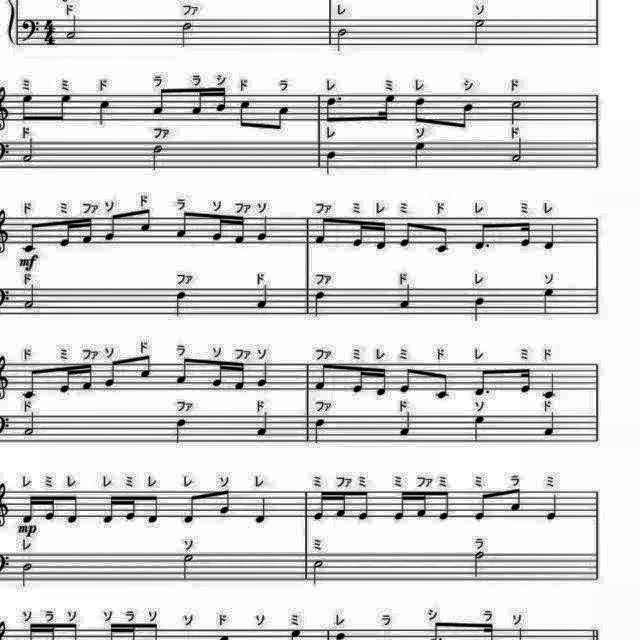Bass-clef: (20, 16, 40, 44)
Eighth-note: (20, 363, 42, 401), (454, 99, 478, 133), (20, 218, 42, 254), (53, 92, 75, 125), (183, 490, 203, 526), (271, 102, 293, 134), (149, 88, 171, 119), (471, 489, 491, 523), (474, 218, 494, 252), (322, 93, 343, 125), (435, 488, 453, 524), (432, 370, 452, 402), (410, 92, 430, 124), (432, 222, 452, 254), (474, 364, 494, 396), (234, 95, 252, 129), (57, 218, 75, 252), (19, 90, 37, 124), (315, 358, 333, 392), (397, 364, 415, 396), (103, 211, 121, 243), (103, 357, 121, 389), (397, 219, 415, 251), (65, 492, 83, 524), (315, 214, 333, 246), (177, 355, 196, 385), (177, 210, 196, 240), (356, 489, 372, 523), (505, 485, 523, 515), (146, 492, 162, 524), (137, 206, 155, 234), (216, 487, 232, 517), (138, 352, 154, 380)
Half-note: (470, 548, 490, 580), (148, 142, 168, 174), (180, 17, 200, 47), (469, 16, 487, 48), (20, 410, 38, 440), (182, 552, 200, 582), (309, 556, 327, 586), (19, 136, 37, 164), (509, 98, 527, 126), (509, 136, 527, 164), (64, 13, 80, 42), (23, 284, 39, 312), (336, 26, 352, 54), (18, 562, 34, 590)
Quarter-note: (538, 368, 558, 399), (95, 96, 114, 128), (545, 492, 563, 524), (252, 494, 270, 526), (255, 409, 273, 439), (469, 414, 487, 444), (173, 416, 191, 446), (172, 288, 190, 318), (411, 139, 429, 169), (311, 288, 329, 318), (396, 409, 414, 438), (311, 418, 329, 447), (542, 222, 558, 254), (469, 293, 486, 323), (255, 215, 272, 245), (256, 362, 274, 390), (255, 282, 273, 310), (540, 410, 558, 438), (396, 282, 414, 310), (540, 285, 556, 315), (322, 148, 338, 176)
Sixteenth-note: (372, 90, 396, 122), (188, 88, 208, 120), (101, 492, 119, 526), (371, 363, 389, 397), (349, 363, 367, 395), (312, 488, 328, 524), (57, 364, 75, 396), (392, 488, 408, 524), (21, 492, 39, 524), (374, 219, 390, 253), (78, 360, 95, 392), (350, 220, 368, 250), (517, 221, 535, 251), (234, 361, 250, 394), (234, 214, 250, 246), (80, 216, 96, 248), (518, 364, 534, 396), (44, 492, 60, 524), (334, 488, 350, 520), (210, 358, 227, 388), (210, 213, 227, 243), (124, 493, 140, 523), (213, 86, 229, 114), (416, 489, 430, 519)
